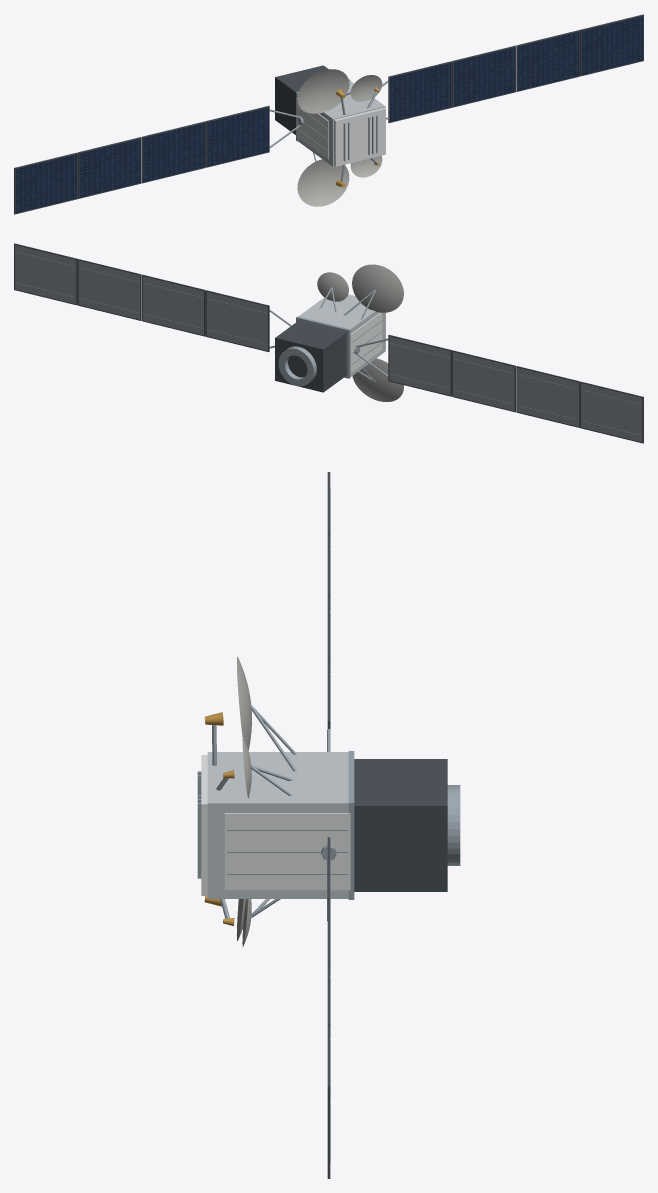
The model's file is ref-spacebus-neo100-45027.glb.
3 views of the same model, one above another, from view 1: azimuth 30°, elevation 25°; view 2: azimuth 150°, elevation 25°; view 3: azimuth 270°, elevation 25° (orthographic). The views are drawn at different scales.
Parts seen in each view (by area): view 1: Solar cell panel (×8), Communications reflector (×4), Solar panel frame (×8), Earth-facing deck, Service module, Payload module, Radiator face; view 2: Rear array substrate (×8), Communications reflector (×3), Service module, Solar panel frame (×8), Payload module, Radiator face, Launch adapter ring, Module interface; view 3: Service module, Payload module, Radiator face, Launch adapter ring, Earth-facing deck.
Boxes of the visible parts, box(x1,y1,x2,y2) form: Solar cell panel (×8): box(15, 16, 643, 213); Communications reflector (×4): box(297, 69, 382, 206); Solar panel frame (×8): box(14, 14, 643, 214); Earth-facing deck: box(334, 107, 385, 166); Service module: box(275, 65, 328, 134); Payload module: box(298, 80, 385, 166); Radiator face: box(296, 98, 328, 159); Rear array substrate (×8): box(15, 245, 642, 442); Communications reflector (×3): box(317, 264, 403, 401); Service module: box(275, 321, 346, 392); Solar panel frame (×8): box(14, 243, 643, 443); Payload module: box(298, 294, 385, 376); Radiator face: box(350, 312, 382, 373); Launch adapter ring: box(278, 346, 316, 386); Module interface: box(296, 316, 350, 378); Service module: box(354, 759, 447, 891); Payload module: box(207, 752, 348, 898); Radiator face: box(224, 813, 350, 890); Launch adapter ring: box(447, 785, 460, 865); Earth-facing deck: box(201, 755, 207, 895).
Size of the model in its own units: 29.97 by 6.19 by 5.42.
Materials: 8 (1 with a texture image).
